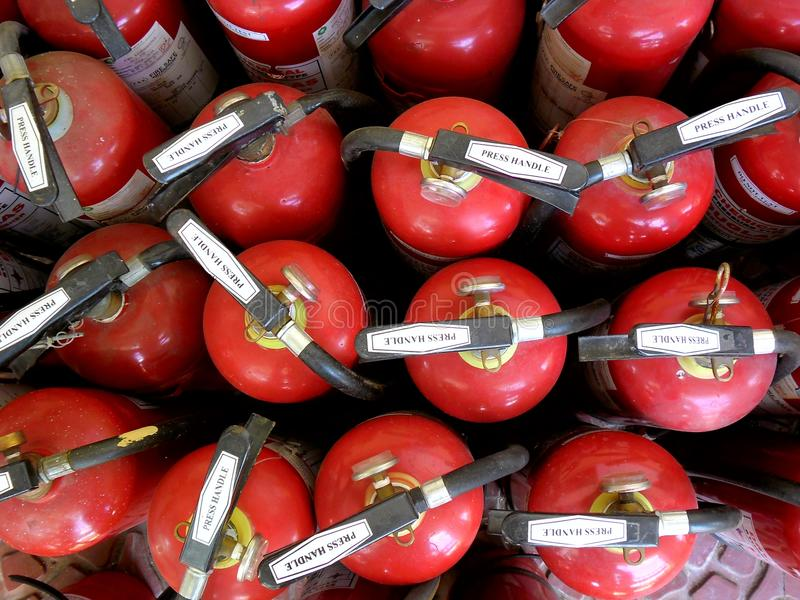fire_extinguisher: (1, 1, 798, 598)
